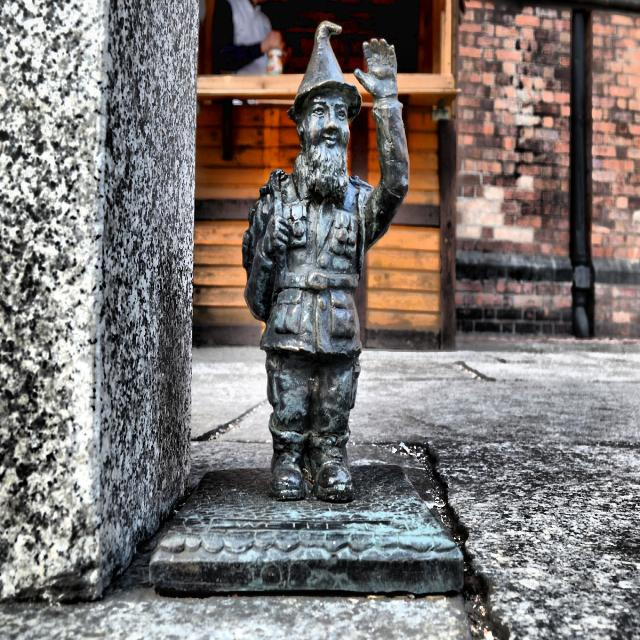Weteran: (242, 22, 409, 502)
